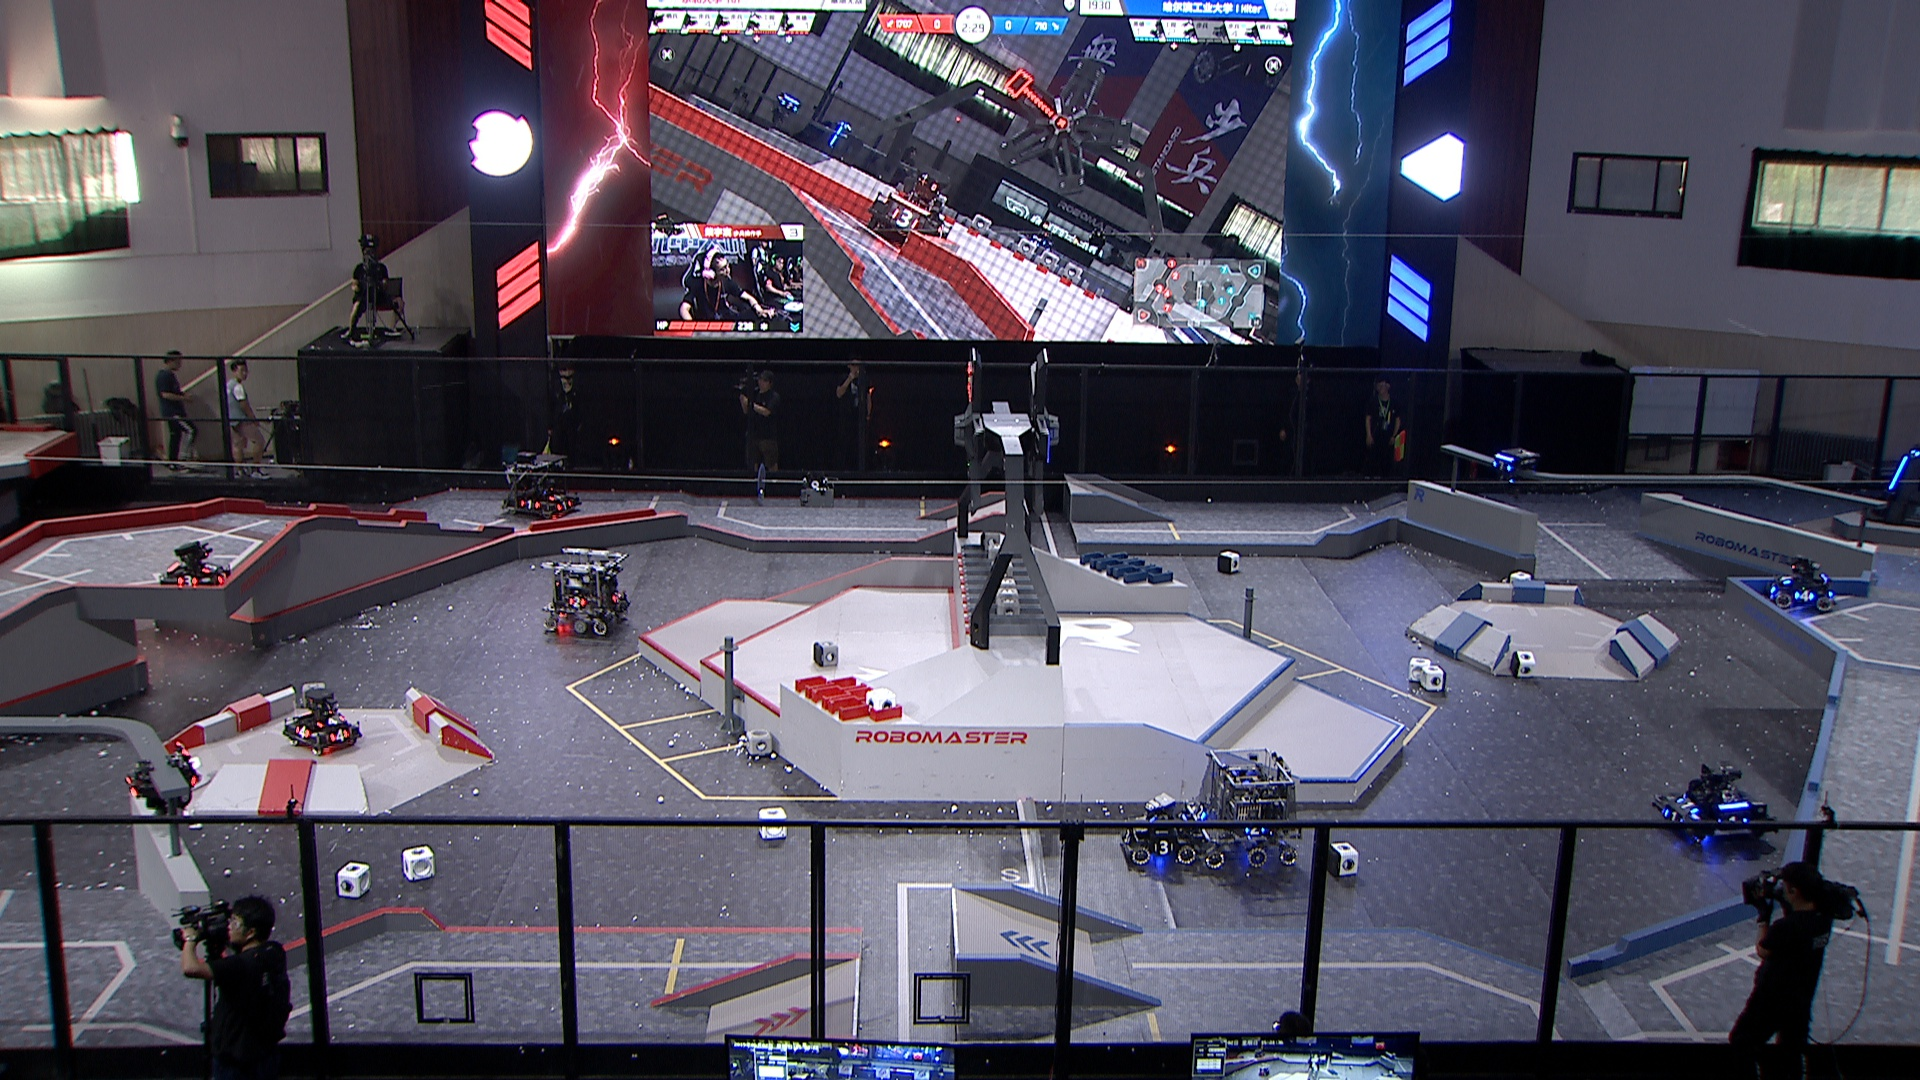armor: (1887, 456, 1909, 493), (1676, 796, 1698, 816), (316, 713, 345, 728), (123, 774, 140, 798), (1153, 839, 1176, 856), (174, 575, 200, 589), (1716, 815, 1751, 825), (1793, 589, 1816, 604), (518, 498, 542, 512), (1664, 808, 1685, 823), (328, 731, 351, 744), (294, 723, 313, 738), (1120, 827, 1134, 847), (567, 597, 588, 611), (214, 570, 231, 585), (1193, 803, 1209, 820), (1491, 460, 1514, 472), (1244, 825, 1266, 837), (200, 560, 220, 574), (546, 493, 568, 504), (555, 498, 572, 512), (1778, 572, 1793, 585), (611, 593, 622, 604)
base: (1865, 450, 1920, 531)
car: (1183, 746, 1304, 869), (1654, 760, 1778, 847), (542, 543, 629, 640), (1120, 793, 1199, 866), (501, 452, 583, 524), (281, 687, 365, 756), (1764, 555, 1837, 613), (160, 538, 233, 595)
ignore: (868, 167, 953, 252), (793, 117, 865, 171), (769, 92, 799, 129), (1029, 229, 1054, 251)
watcher: (121, 740, 200, 818), (1490, 444, 1539, 491)
